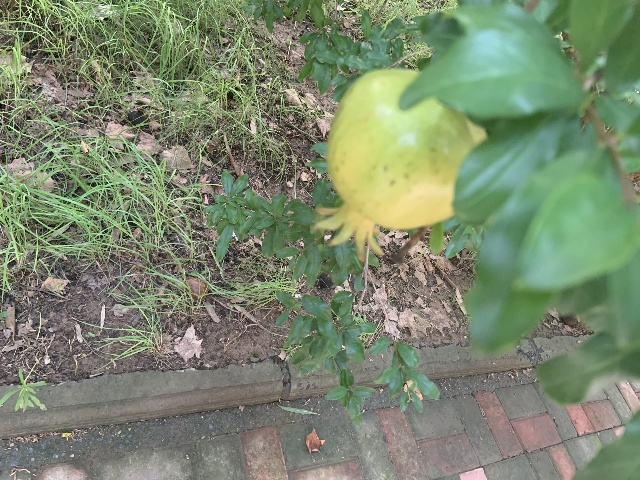mid-growth: (314, 67, 486, 262)
